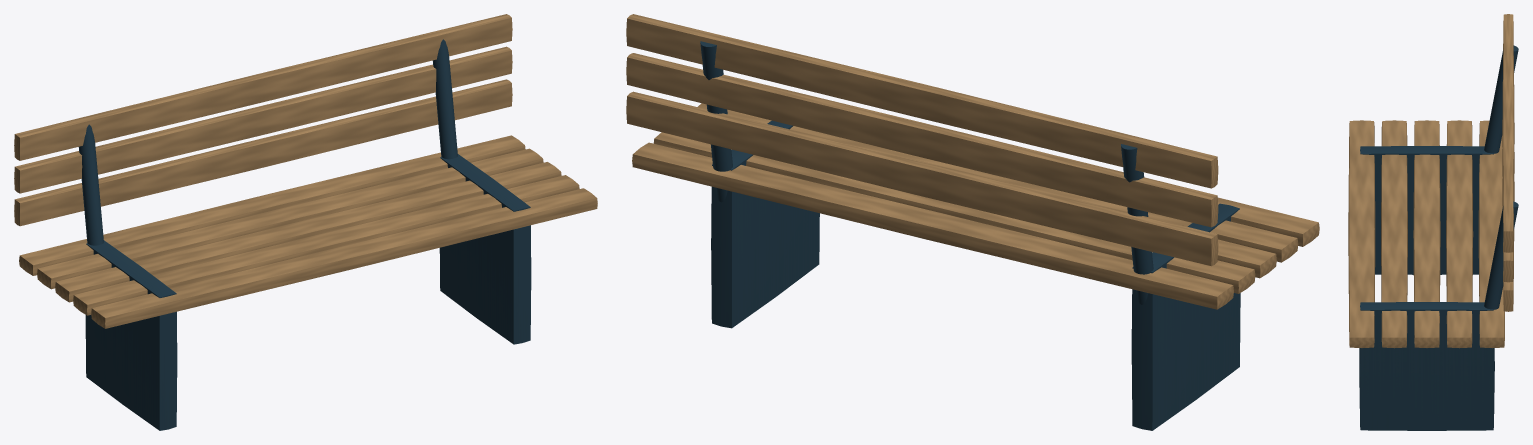
The model's file is garden-bench.glb.
3 views of the same model, side by side, from view 1: azimuth 30°, elevation 25°; view 2: azimuth 150°, elevation 25°; view 3: azimuth 270°, elevation 25° (orthographic). The views are drawn at different scales.
Parts seen in each view (by area): view 1: garden-bench; view 2: garden-bench; view 3: garden-bench.
Boxes of the visible parts, x1,y1,x2,y2 form: garden-bench: [14, 14, 597, 430]; garden-bench: [626, 14, 1319, 430]; garden-bench: [1348, 14, 1518, 430].
Size of the model in its own units: 1.9 by 0.9275 by 0.6276.
Materials: 12 (12 with a texture image).
